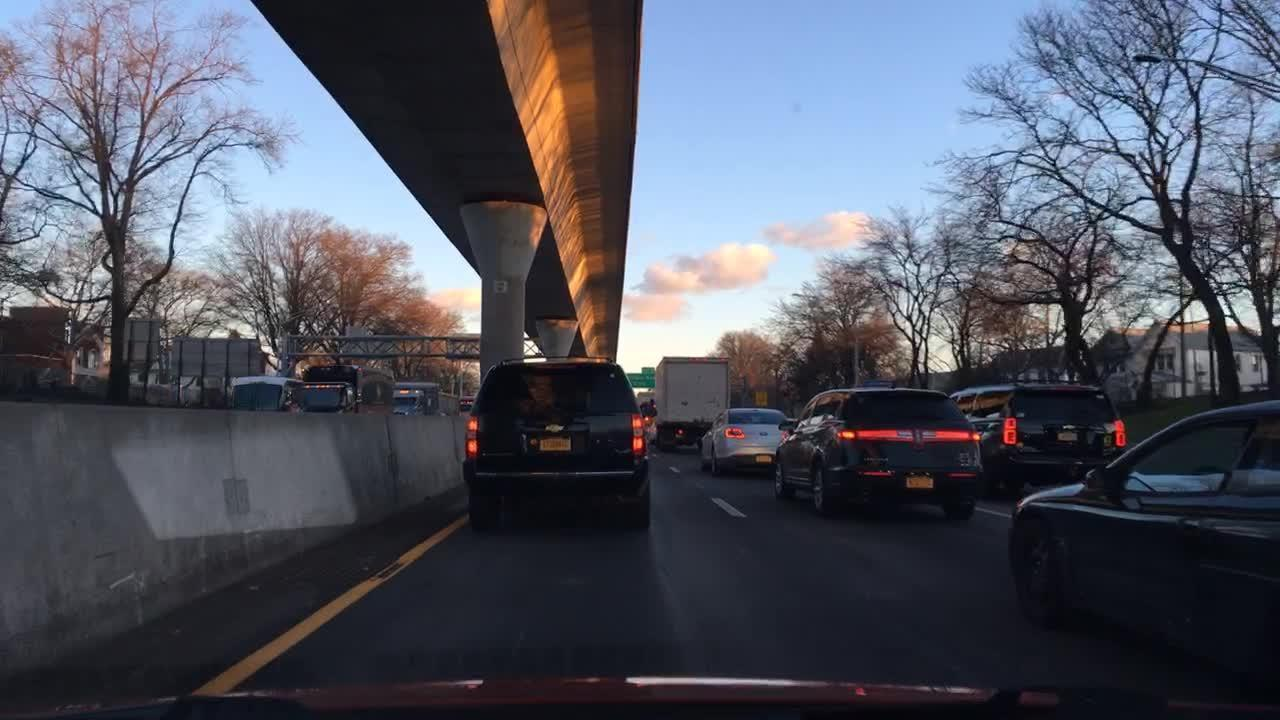chevrolet: (542, 420, 572, 438), (1062, 422, 1078, 431)
lincoln: (912, 424, 925, 450)
